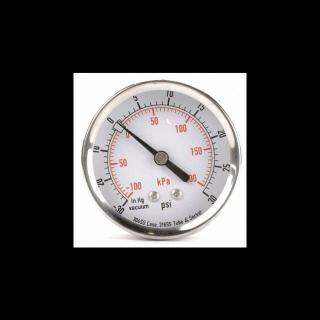gauge: (74, 73, 246, 247), (192, 184, 216, 206), (115, 196, 131, 214), (153, 150, 169, 166), (114, 118, 122, 126)
